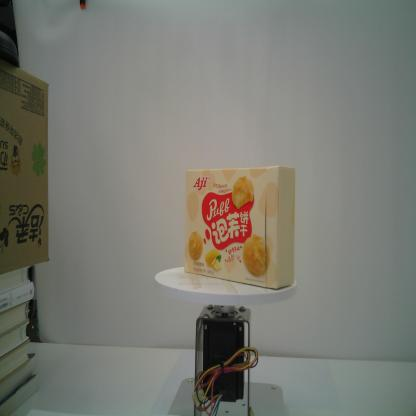Dessert: (182, 165, 295, 290)
